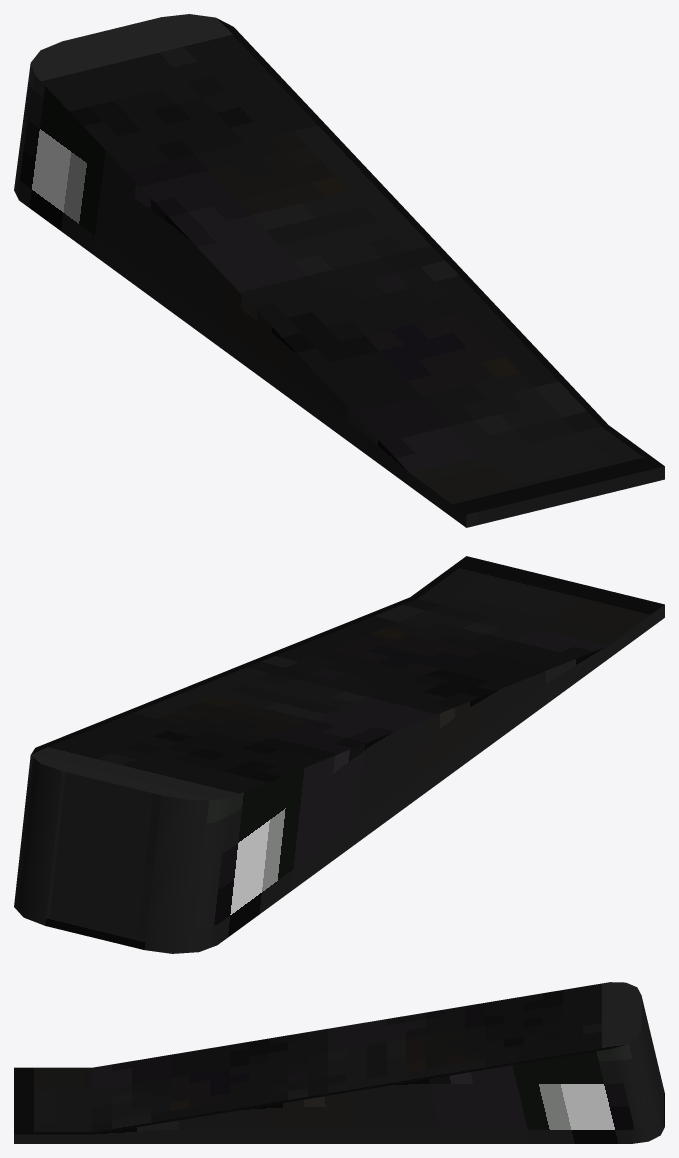
The model's file is 191_DoorStopper.fbx.
The picture shows the model from 3 angles, top to bottom: view 1: azimuth 30°, elevation 25°; view 2: azimuth 150°, elevation 25°; view 3: azimuth 270°, elevation 25°; orthographic projection. The views are drawn at different scales.
Visible parts, largest first — view 1: LOD_1_Group_0_Sub_1__sm30_191_DoorStopper01A_A_Mat; view 2: LOD_1_Group_0_Sub_1__sm30_191_DoorStopper01A_A_Mat; view 3: LOD_1_Group_0_Sub_1__sm30_191_DoorStopper01A_A_Mat.
Boxes of the visible parts, left/top/right/bottom form: LOD_1_Group_0_Sub_1__sm30_191_DoorStopper01A_A_Mat: left=14, top=14, right=664, bottom=527; LOD_1_Group_0_Sub_1__sm30_191_DoorStopper01A_A_Mat: left=14, top=556, right=664, bottom=953; LOD_1_Group_0_Sub_1__sm30_191_DoorStopper01A_A_Mat: left=14, top=982, right=664, bottom=1143.
Bounding box in the file's own units: 0.0572 × 0.0392 × 0.2349.
